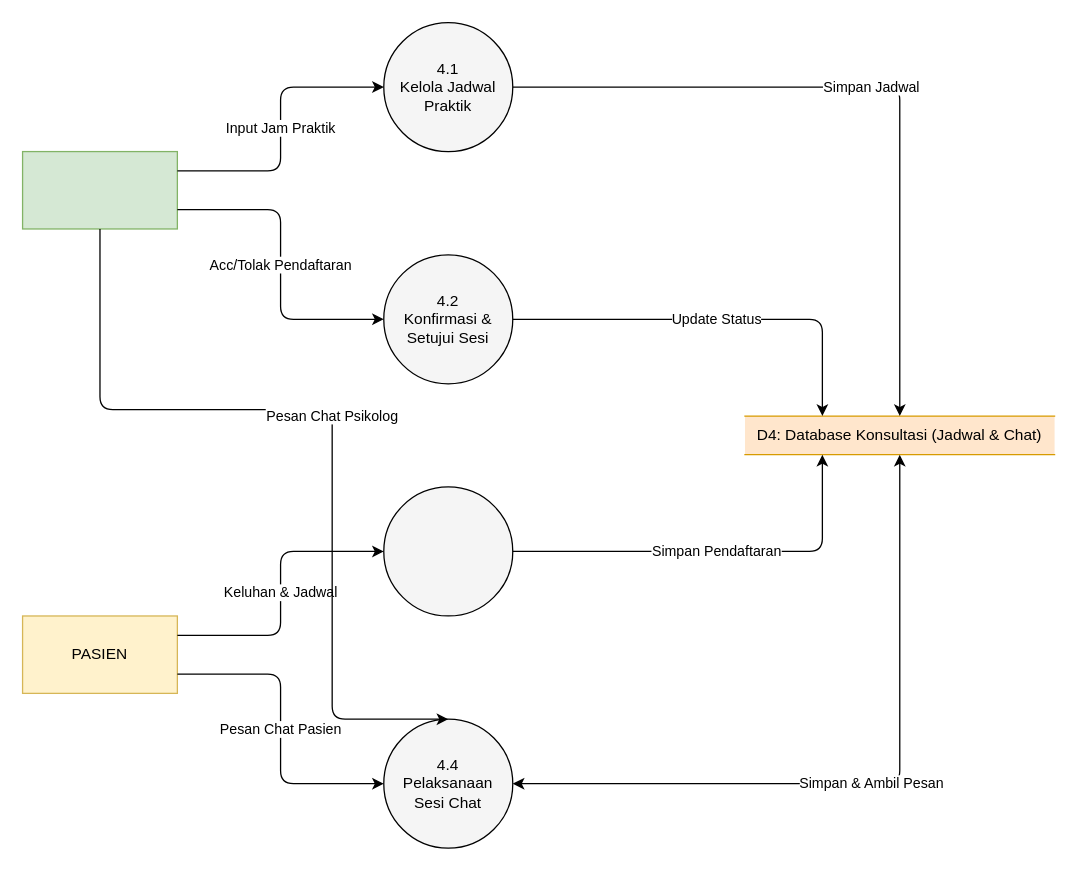
The diagram is 1077 pixels wide and 871 high, and some of its shapes have lost their labels. The shapes that lost their labels are listed below. From the top down, each one's centre as x and y in pixels, then its label:
At [99,189]: "PSIKOLOG".
At [447,551]: "4.3 Daftar & Pilih Jadwal".
